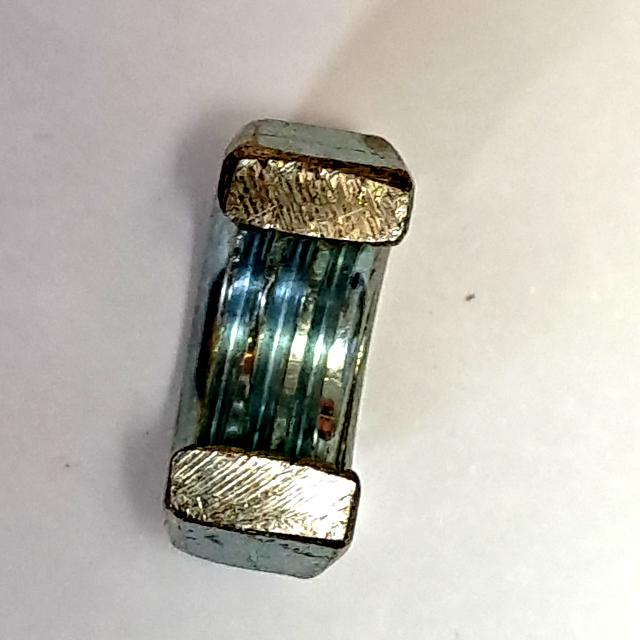Side-Fracture: (151, 102, 426, 601)
